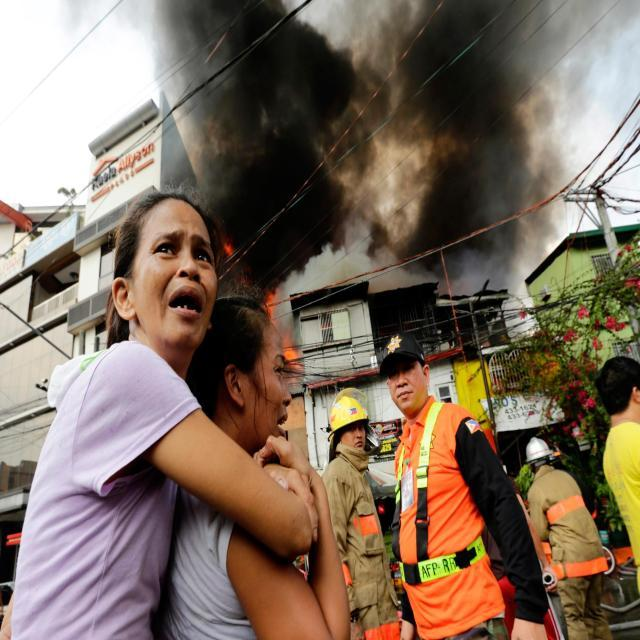Fire: (280, 333, 310, 380), (258, 278, 280, 320)
Smoke: (169, 2, 344, 248), (391, 0, 533, 260), (273, 250, 385, 298)
